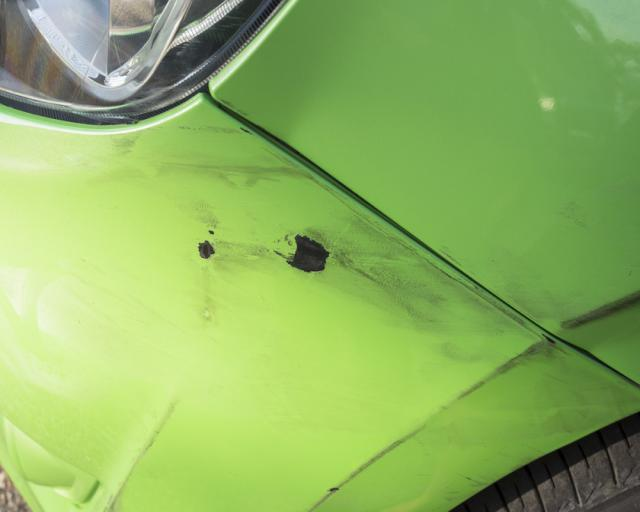scratch: (115, 122, 573, 512), (484, 243, 640, 332)
